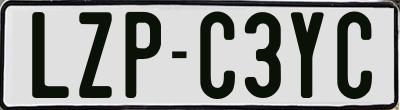3: (242, 10, 283, 101)
C: (336, 8, 376, 102), (199, 11, 234, 103)
L: (29, 11, 72, 102)
P: (123, 10, 163, 101)
Y: (289, 10, 323, 102)
Z: (78, 11, 114, 101)
